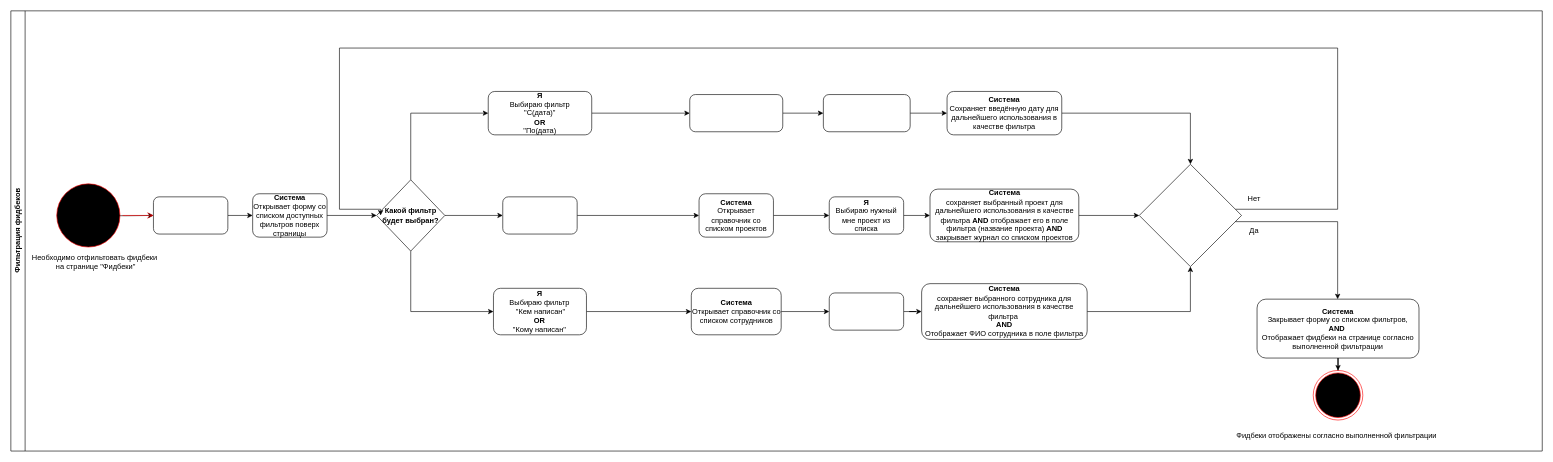
Some shapes in this 1553 by 462 pixel diagram are drawn without their labels. Here are the shapes that lost their labels. From the top down, the box of each, then its label:
(689, 94, 783, 132): Система Отображает курсор ввода на соответствующем поле ввода
(823, 94, 910, 132): Я Ввожу в поле ввода дату в формате "ДД.ММ.ГГ"
(153, 196, 228, 234): Я Выбираю опцию "фильтры"
(502, 196, 577, 234): Я Выбираю фильтр "Проект"
(1139, 164, 1242, 267): Все необходимые фильтры введены?
(829, 292, 904, 330): Я Выбираю нужного мне сотрудника справочника
